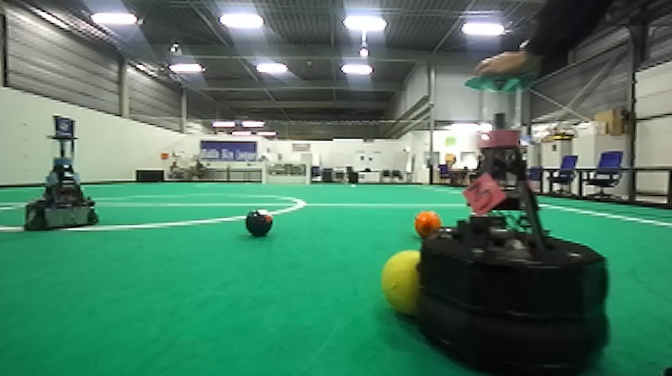ball: (376, 243, 421, 322), (240, 206, 277, 242), (410, 208, 443, 239)
goal: (261, 157, 310, 187)
goalpost: (261, 159, 268, 187), (304, 158, 309, 187)
human_part: (469, 1, 672, 79)
robot: (414, 66, 623, 376), (20, 111, 103, 236)
